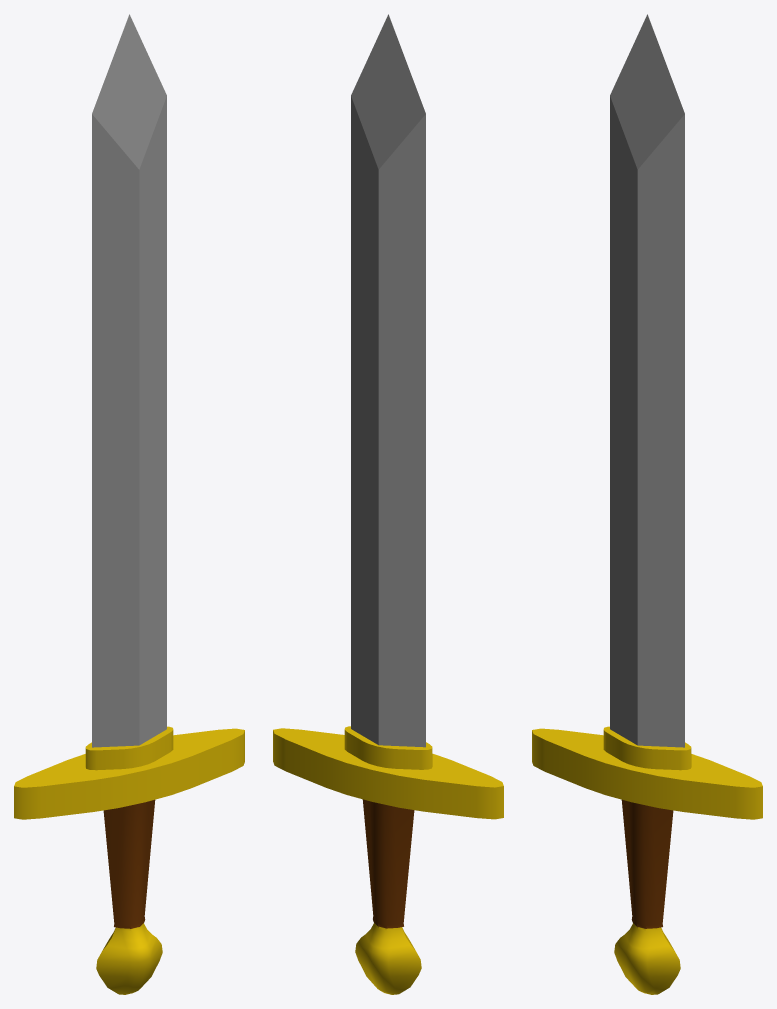
File: sword.fbx
3 views of the same model, side by side, from view 1: azimuth 30°, elevation 25°; view 2: azimuth 150°, elevation 25°; view 3: azimuth 330°, elevation 25° (orthographic).
Parts seen in each view (by area): view 1: Cube; view 2: Cube; view 3: Cube.
Boxes of the visible parts, left/top/right/bottom form: Cube: left=14, top=14, right=244, bottom=994; Cube: left=273, top=14, right=503, bottom=994; Cube: left=532, top=14, right=762, bottom=994.
Bounding box in the file's own units: 656 × 2659 × 162.
